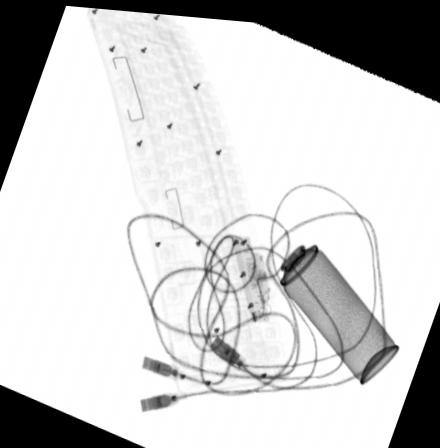Sprayer: (254, 211, 400, 380)
